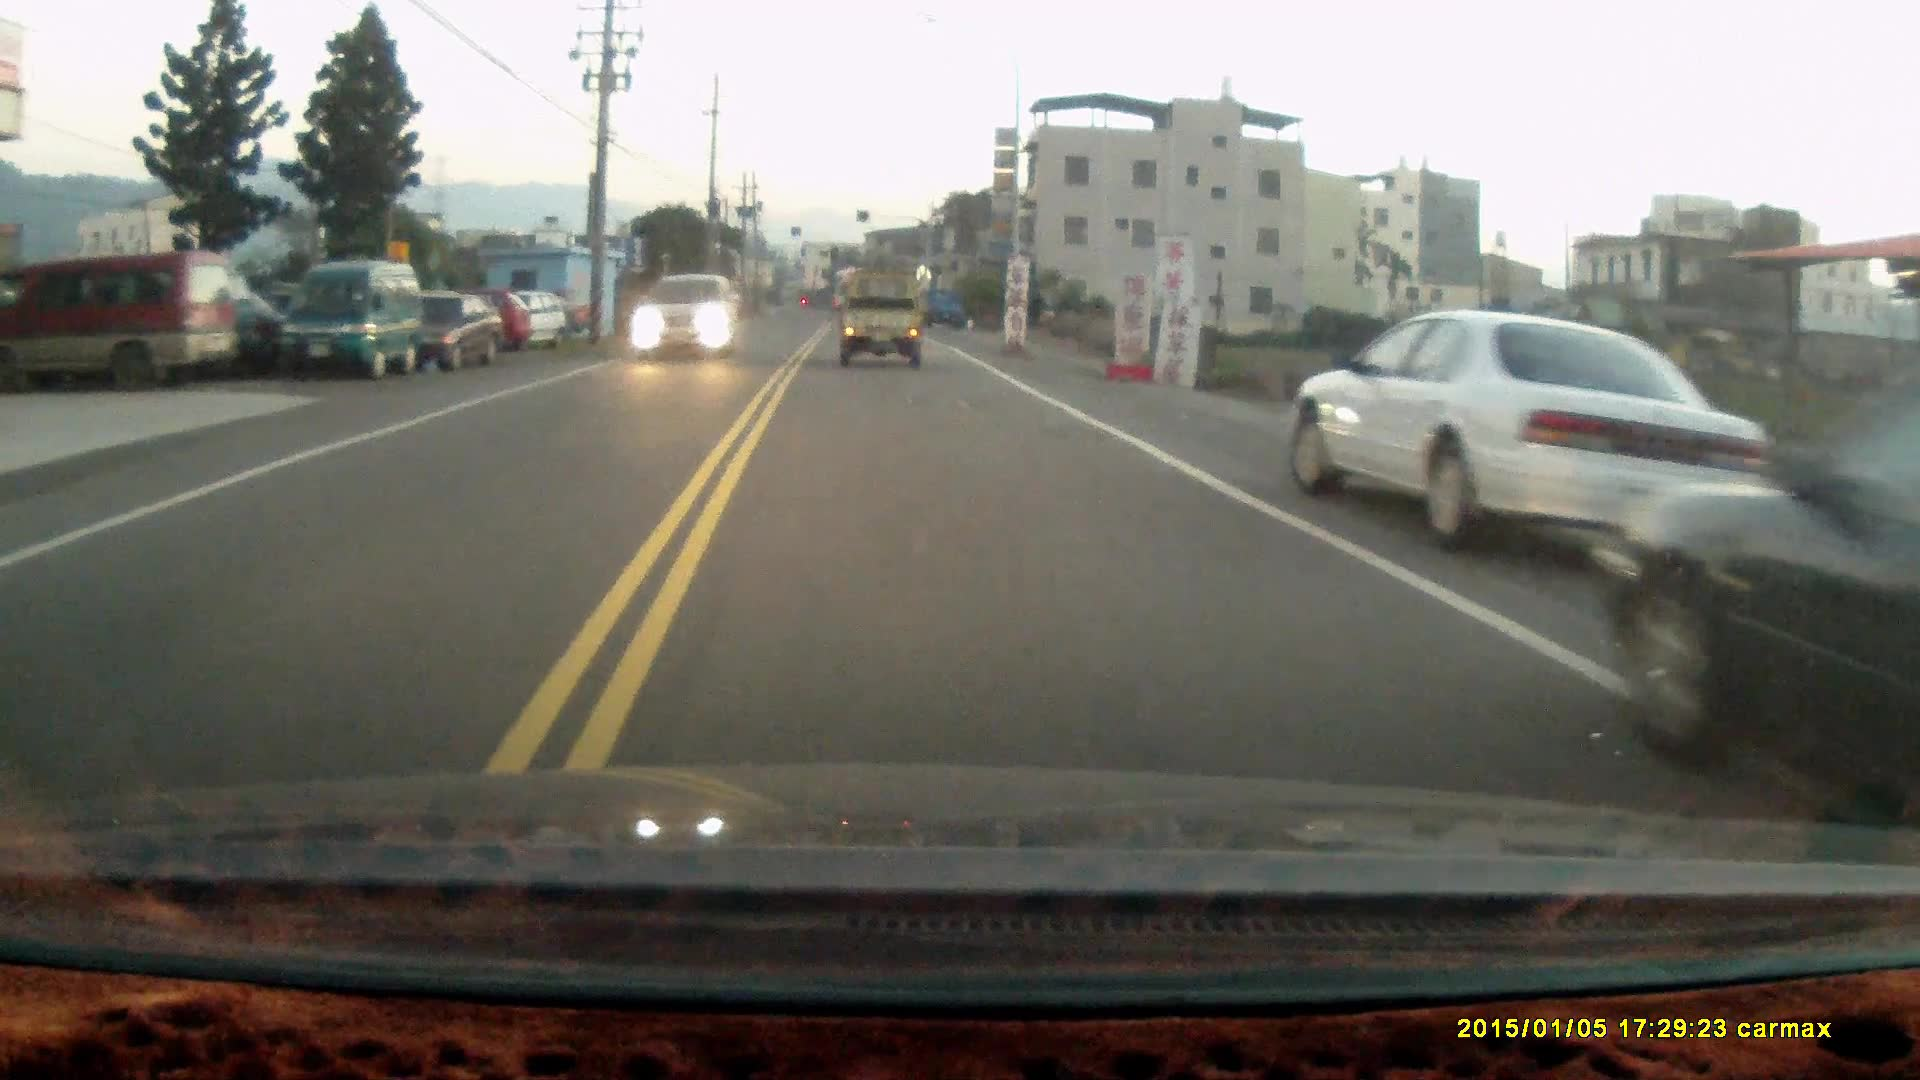vehicle: (1600, 396, 1919, 814), (1287, 313, 1771, 574), (1, 255, 251, 386), (278, 260, 425, 380), (632, 274, 746, 367), (839, 280, 926, 373), (429, 291, 506, 378), (496, 295, 564, 357)
